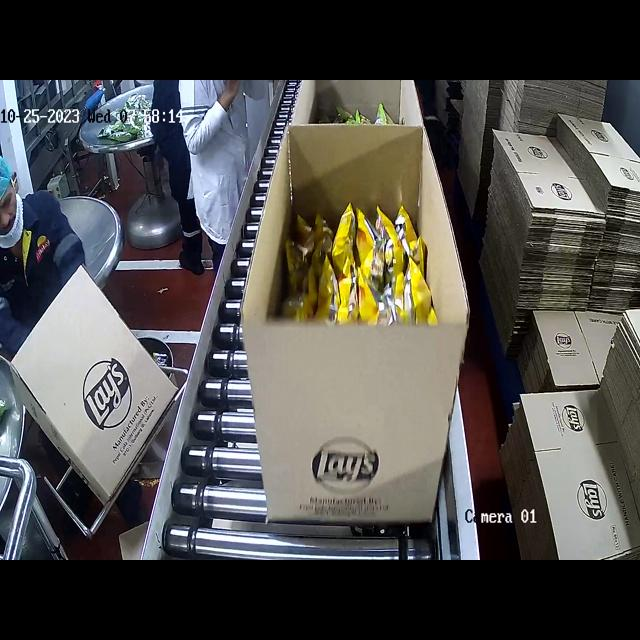salted: (292, 213, 424, 320)
yogurt: (335, 93, 402, 125)
